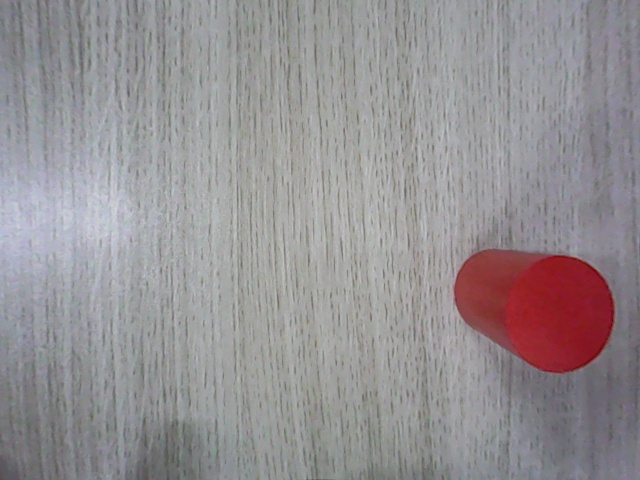upside of cylinder: (505, 255, 616, 374)
